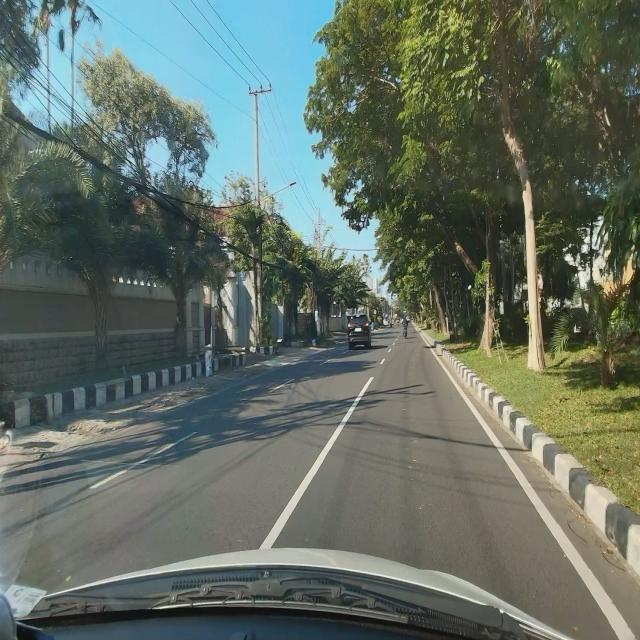car: (347, 313, 372, 352)
license-plate: (355, 328, 362, 332)
